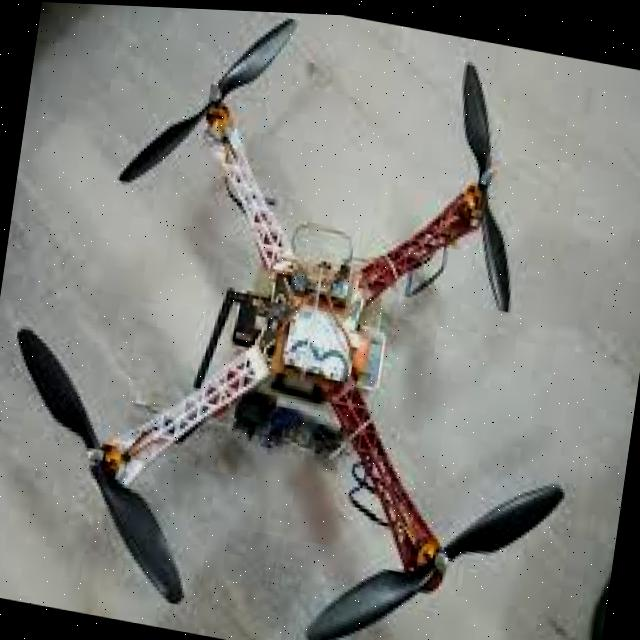drone: (10, 0, 604, 640)
